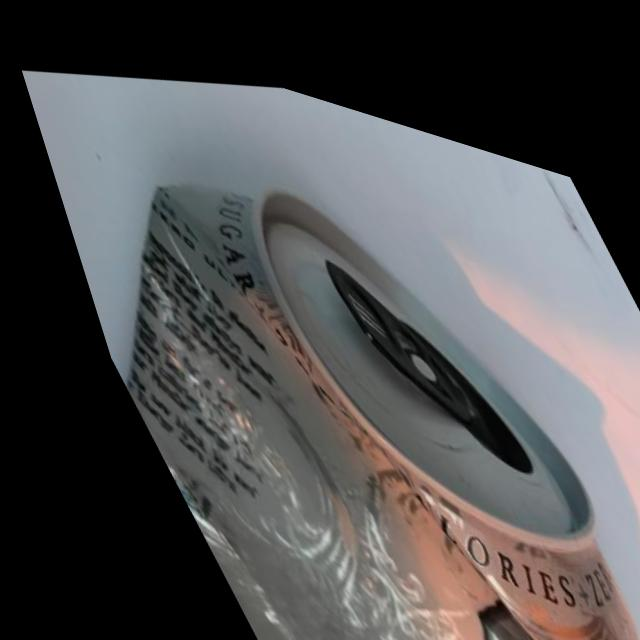metal: (13, 54, 640, 640)
